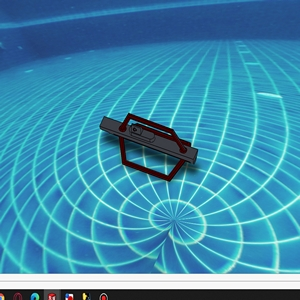submarine: (100, 107, 201, 184)
